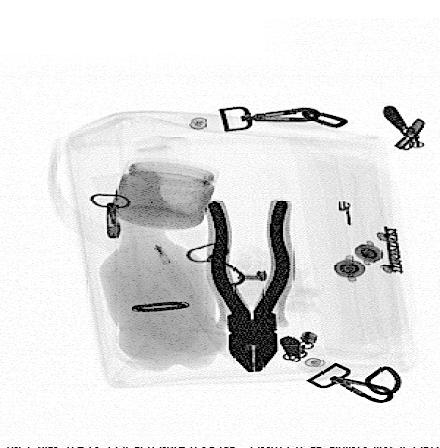Pliers: (200, 196, 294, 376)
